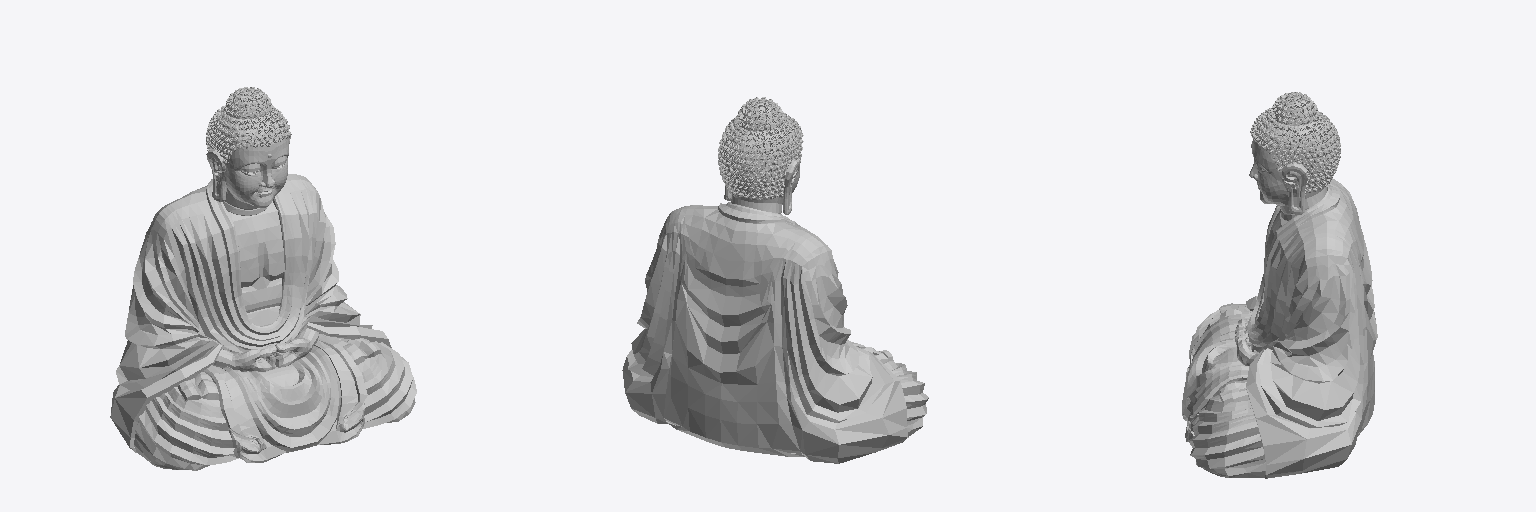
Rendered from buddha.obj.
The picture shows the model from 3 angles: view 1: azimuth 30°, elevation 25°; view 2: azimuth 150°, elevation 25°; view 3: azimuth 270°, elevation 25°; orthographic projection.
Size of the model in its own units: 12.92 by 15.01 by 8.19.